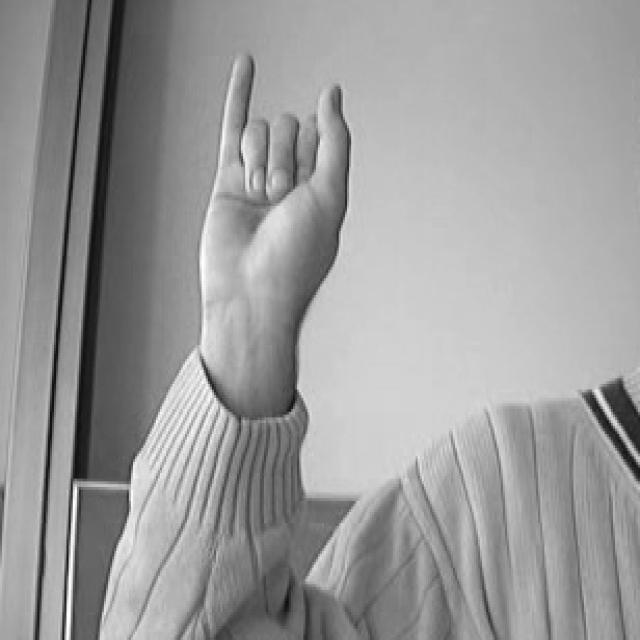I: (192, 40, 358, 324)
